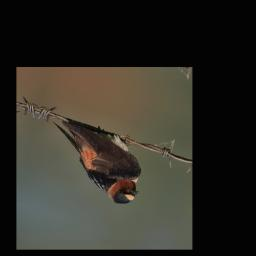Swallow: (38, 112, 151, 211)
